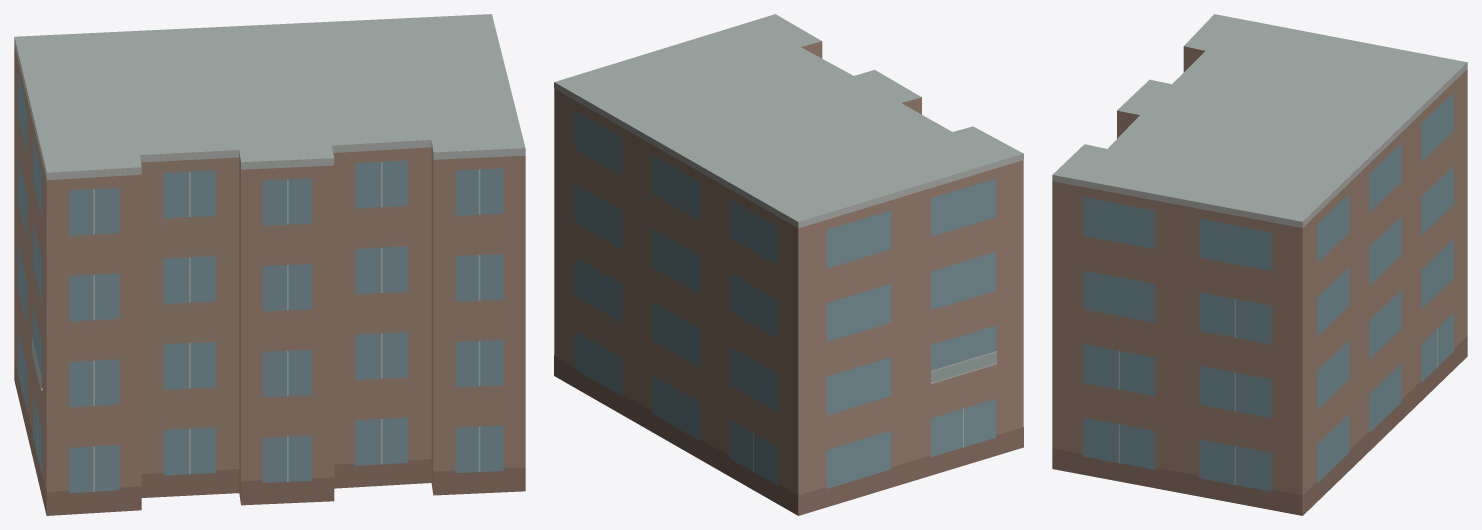
The model's file is survey-upis-32603949.glb.
The picture shows the model from 3 angles, left to right: view 1: azimuth 30°, elevation 25°; view 2: azimuth 150°, elevation 25°; view 3: azimuth 270°, elevation 25°; orthographic projection. The views are drawn at different scales.
Visible parts, largest first — view 1: survey-upis-32603949.tmp; view 2: survey-upis-32603949.tmp; view 3: survey-upis-32603949.tmp.
Boxes of the visible parts, x1,y1,x2,y2 form: survey-upis-32603949.tmp: (14,14,525,515); survey-upis-32603949.tmp: (554,14,1023,515); survey-upis-32603949.tmp: (1052,14,1467,515).
Bounding box in the file's own units: 17.14 × 11.3 × 14.47.
